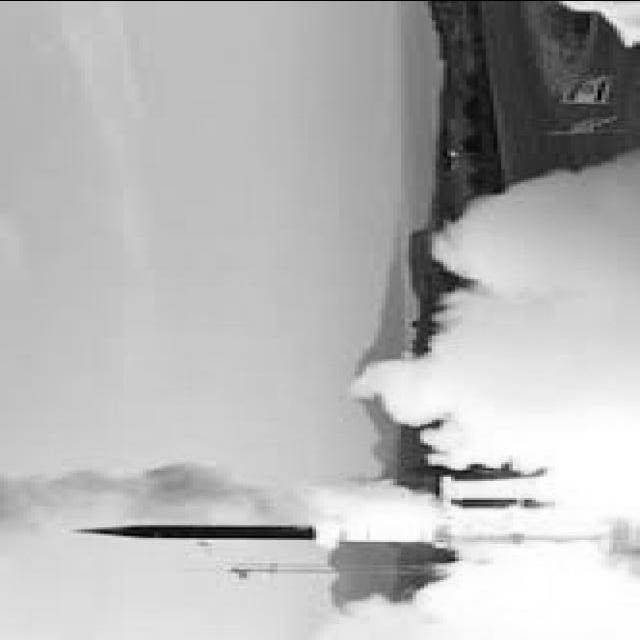missile: (60, 519, 326, 544)
